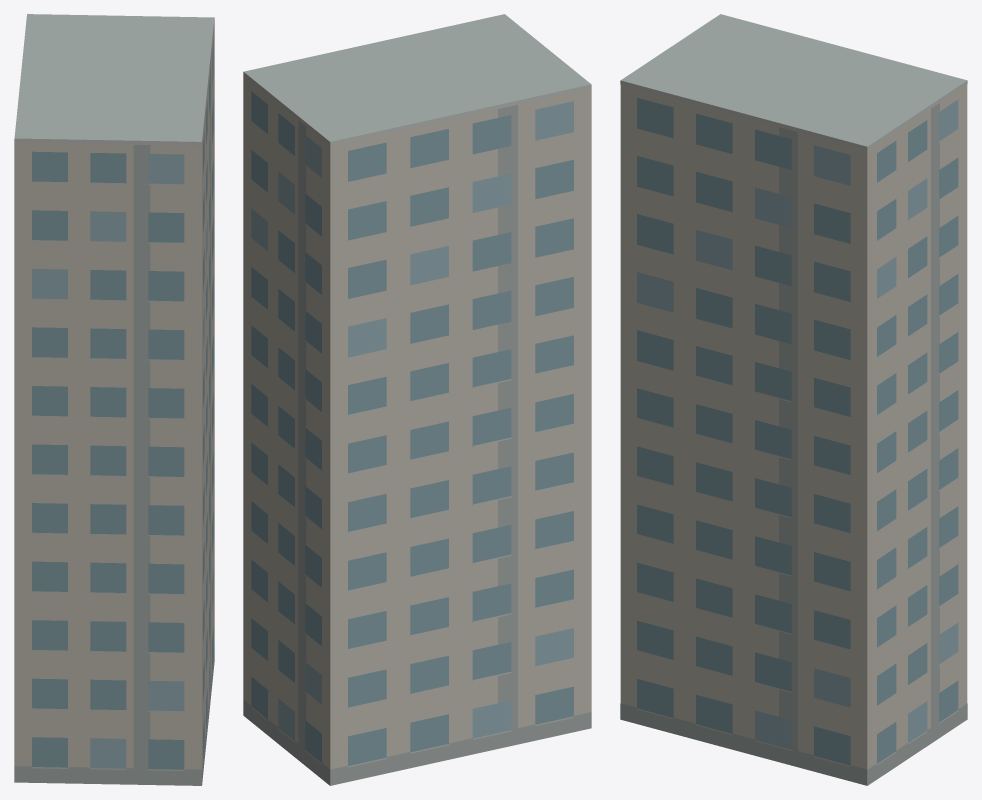
The model's file is residential-a853791d-5ef8-47e0-859a-7c72bce5e466.glb.
3 views of the same model, side by side, from view 1: azimuth 30°, elevation 25°; view 2: azimuth 150°, elevation 25°; view 3: azimuth 270°, elevation 25° (orthographic).
Parts seen in each view (by area): view 1: residential-a853791d-5ef8-47e0-859a-7c72bce5e466.tmp; view 2: residential-a853791d-5ef8-47e0-859a-7c72bce5e466.tmp; view 3: residential-a853791d-5ef8-47e0-859a-7c72bce5e466.tmp.
Boxes of the visible parts, box(x1,y1,x2,y2) form: residential-a853791d-5ef8-47e0-859a-7c72bce5e466.tmp: box(14, 14, 214, 785); residential-a853791d-5ef8-47e0-859a-7c72bce5e466.tmp: box(243, 14, 591, 785); residential-a853791d-5ef8-47e0-859a-7c72bce5e466.tmp: box(620, 14, 967, 785).
Size of the model in its own units: 16.93 by 38 by 18.7.
